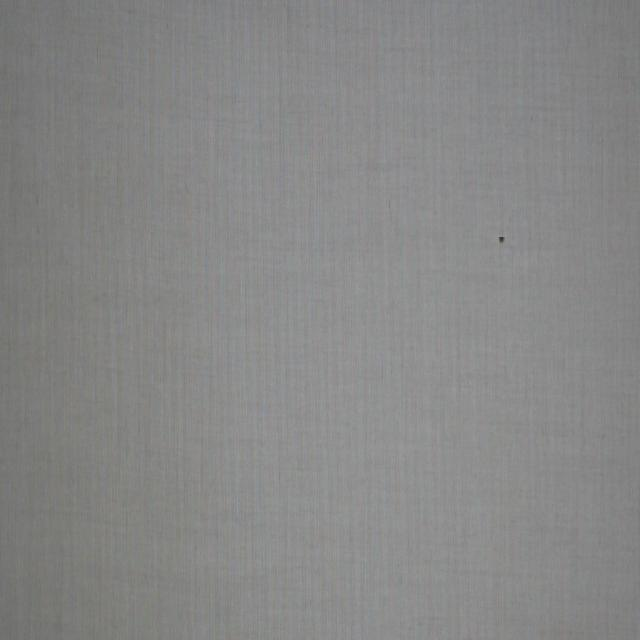dirty: (498, 237, 506, 245)
